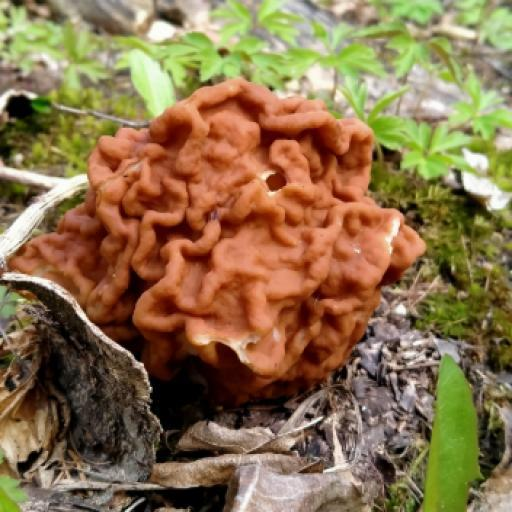mushroom: (15, 16, 464, 460)
